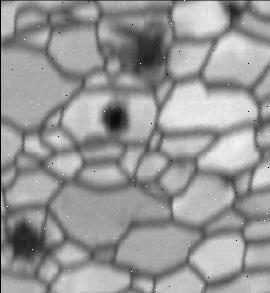good_void: (88, 8, 171, 86), (7, 215, 53, 264), (94, 99, 129, 136), (218, 0, 247, 29), (215, 167, 238, 191)
